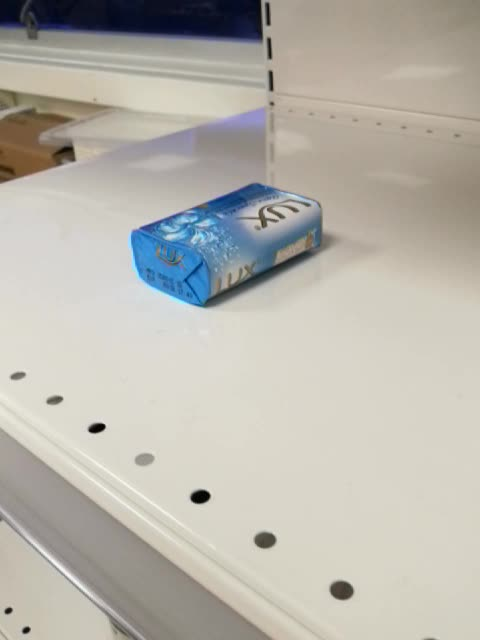soap: (129, 179, 324, 309)
